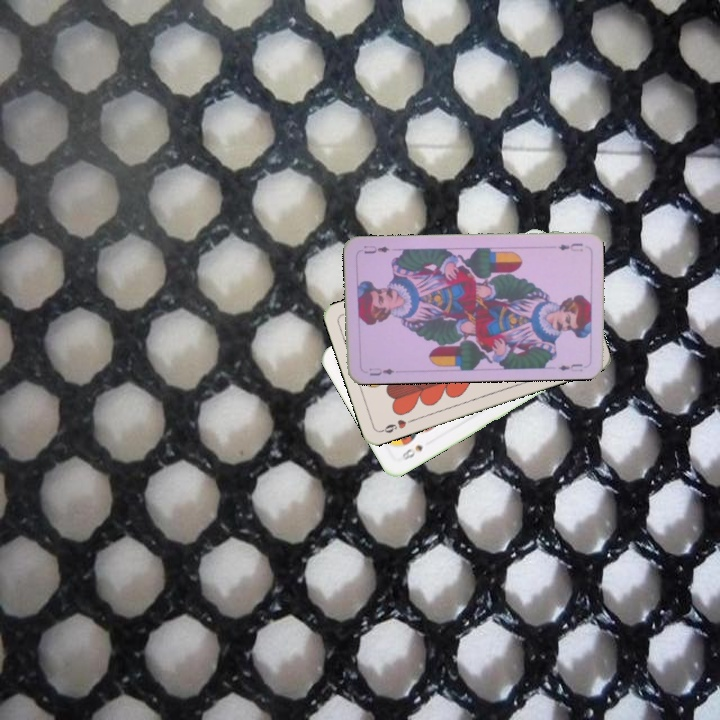EU: (554, 239, 586, 254), (365, 364, 397, 378)
H9: (377, 415, 416, 435)
S8: (398, 441, 425, 463)
